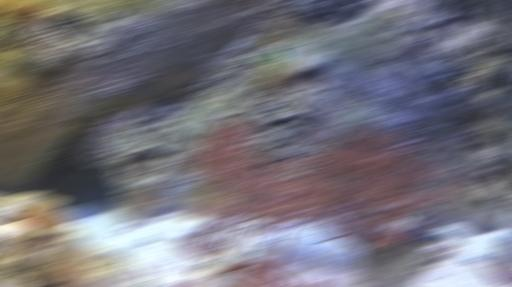Fish: (376, 227, 407, 252), (191, 260, 218, 273)
